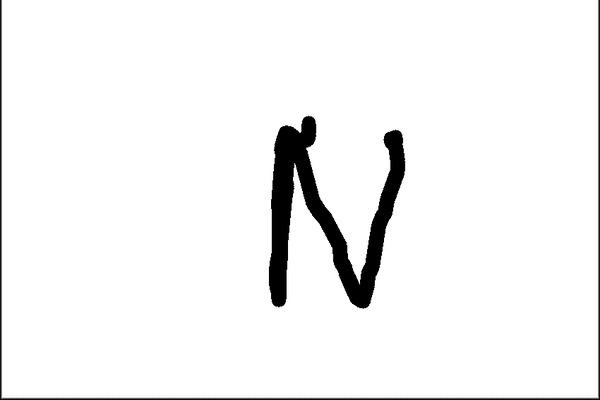N: (260, 109, 408, 313)
